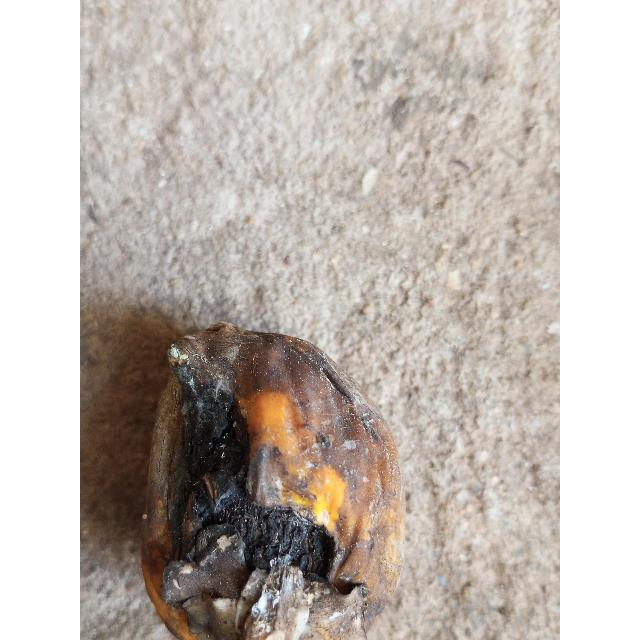damaged: (140, 323, 405, 640)
